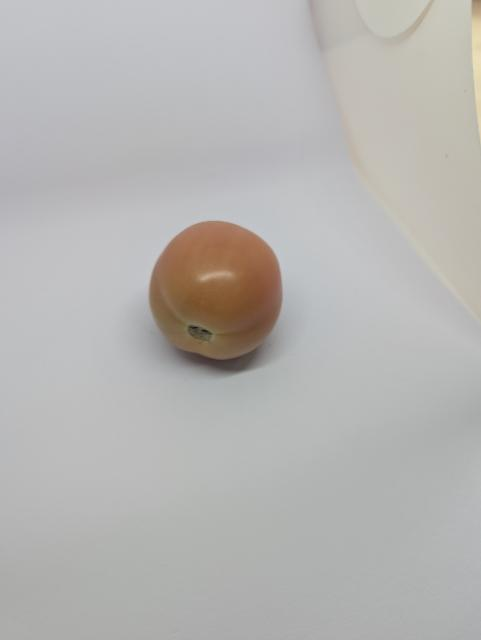turning: (149, 217, 293, 370)
